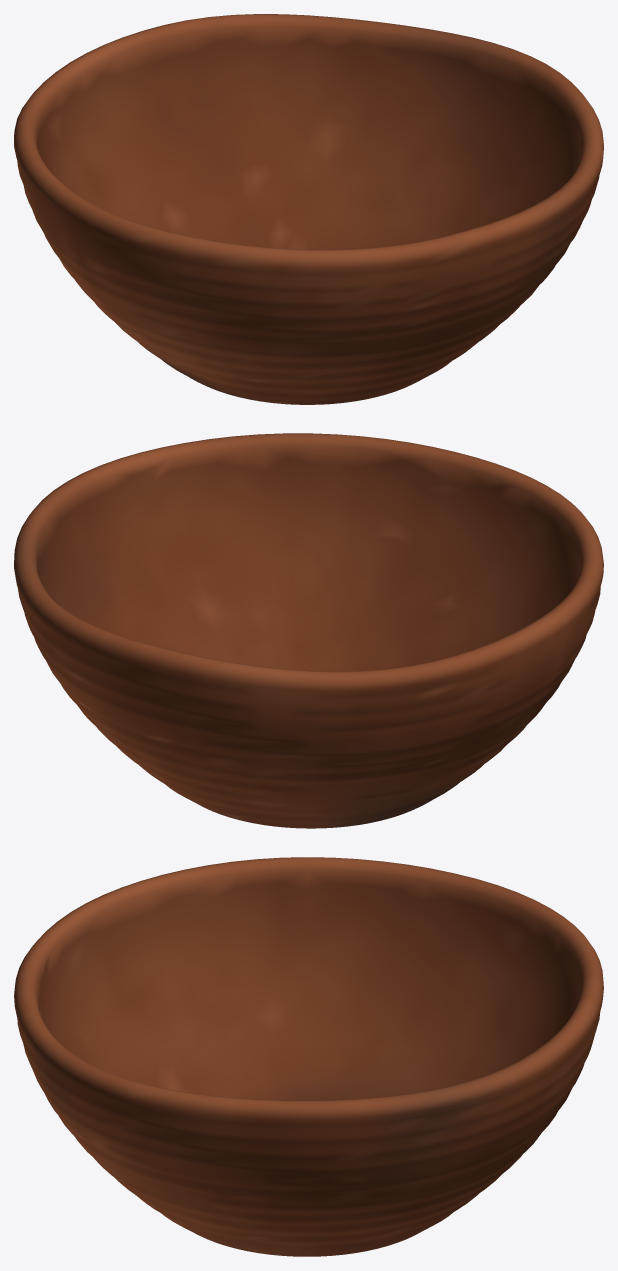
Rendered from clay-bowl.glb.
3 renders of one model, top to bottom at view 1: azimuth 30°, elevation 25°; view 2: azimuth 150°, elevation 25°; view 3: azimuth 270°, elevation 25°, orthographic. The views are drawn at different scales.
Visible parts, largest first — view 1: clay-bowl; view 2: clay-bowl; view 3: clay-bowl.
Boxes of the visible parts, x1,y1,x2,y2 form: clay-bowl: (14, 14, 603, 404); clay-bowl: (14, 433, 603, 828); clay-bowl: (14, 857, 603, 1256).
Bounding box in the file's own units: 0.1562 × 0.065 × 0.1542.
